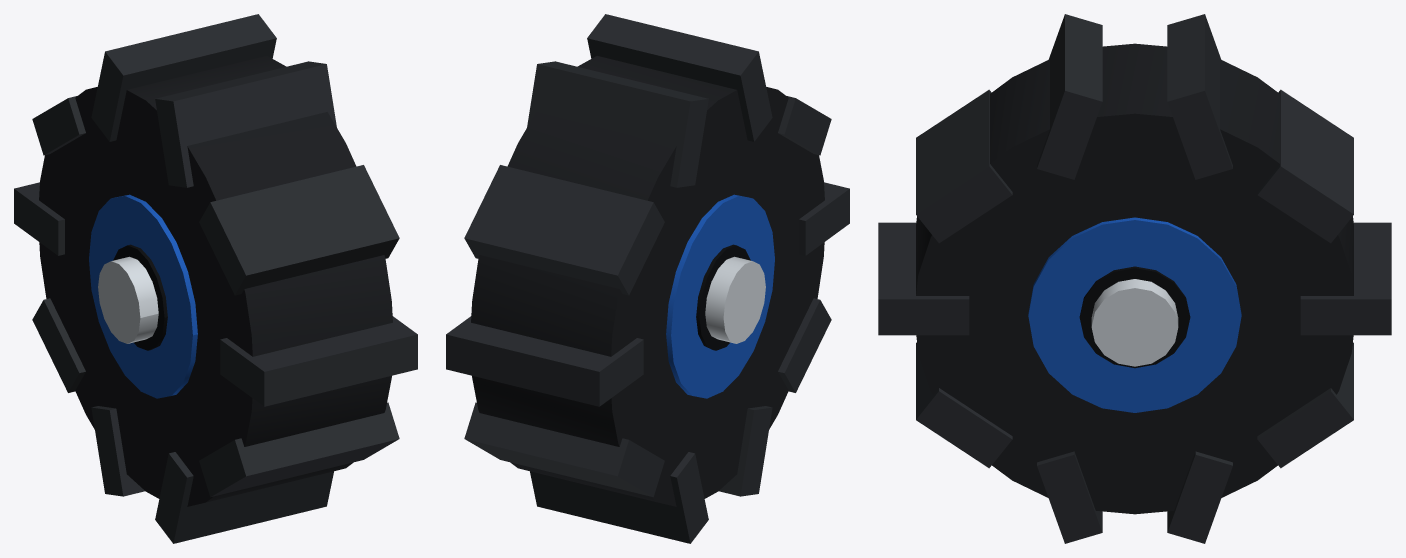
The model's file is A006-LP03_TOYBOX-rl-01-of-01.glb.
3 renders of one model, left to right at view 1: azimuth 30°, elevation 25°; view 2: azimuth 150°, elevation 25°; view 3: azimuth 270°, elevation 25°, orthographic. The views are drawn at different scales.
Visible parts, largest first — view 1: LP03_TOYBOX_Wheel_RL_Part_01; view 2: LP03_TOYBOX_Wheel_RL_Part_01; view 3: LP03_TOYBOX_Wheel_RL_Part_01.
Boxes of the visible parts, <box> form: LP03_TOYBOX_Wheel_RL_Part_01: <box>14,14,417,543</box>; LP03_TOYBOX_Wheel_RL_Part_01: <box>446,14,849,543</box>; LP03_TOYBOX_Wheel_RL_Part_01: <box>878,14,1391,543</box>.
Size of the model in its own units: 0.4462 by 0.9748 by 1.
